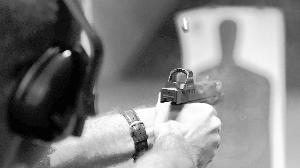handgun: (150, 61, 222, 135)
